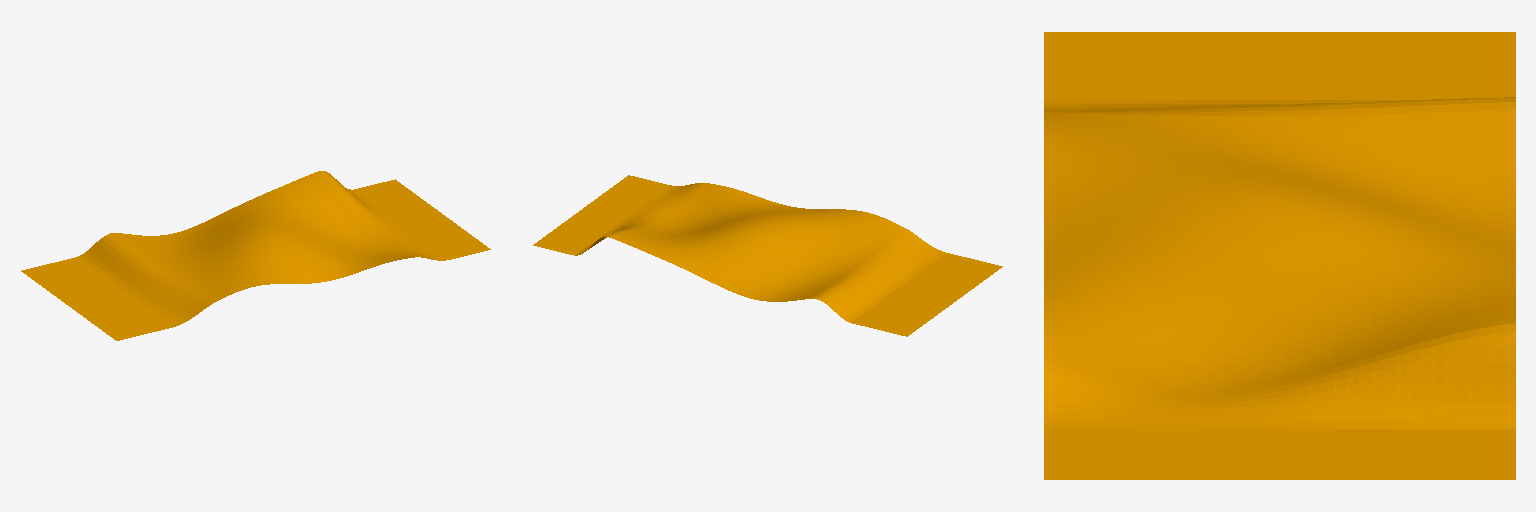
The robot description file, URDF, robot "hill_1":
<?xml version='1.0' encoding='UTF-8'?>
<robot name="hill_1">
  <link name="terrain_link">
    <inertial>
      <origin xyz="0 0 0" rpy="0 0 0"/>
      <mass value="1.0"/>
      <inertia ixx="1.0" ixy="0.0" ixz="0.0" iyy="1.0" iyz="0.0" izz="1.0"/>
    </inertial>
    <visual name="terrain_visual">
      <geometry>
        <mesh filename="hill_1.obj" scale="1 1 1"/>
      </geometry>
      <origin xyz="0 0 0" rpy="0 0 0"/>
    </visual>
    <collision name="terrain_collision">
      <geometry>
        <mesh filename="hill_1.obj" scale="1 1 1"/>
      </geometry>
      <origin xyz="0 0 0" rpy="0 0 0"/>
    </collision>
  </link>
</robot>

--- Facts derived from the render (not from the file) ---
The picture shows the robot from 3 angles, left to right: view 1: azimuth 30°, elevation 25°; view 2: azimuth 150°, elevation 25°; view 3: azimuth 270°, elevation 25°; orthographic projection.
Model hill_1 with 1 links and 0 joints (none), rooted at terrain_link, posed all joints at 0.
Visible links, largest first — view 1: terrain_link; view 2: terrain_link; view 3: terrain_link.
Link boxes in pixels (x1,y1,x2,y2): terrain_link: (21, 171, 490, 340); terrain_link: (533, 175, 1002, 336); terrain_link: (1044, 32, 1515, 479).
Size in the robot's own frame: 54 by 24 by 3.7 metres.
1 mesh visuals loaded from 1 distinct referenced files (1 OBJ).
